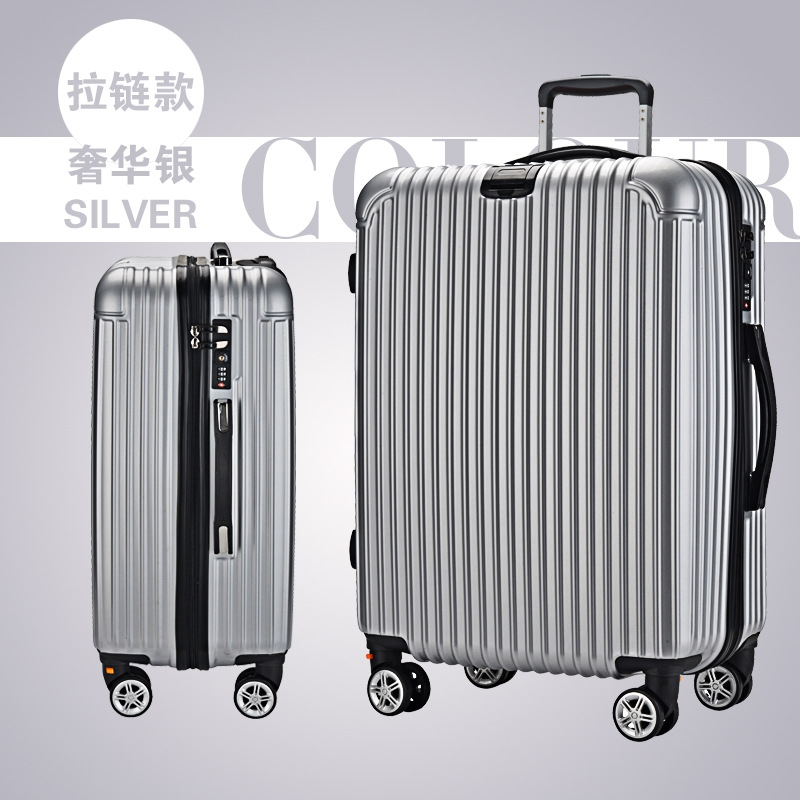luggage: (90, 241, 296, 719)
